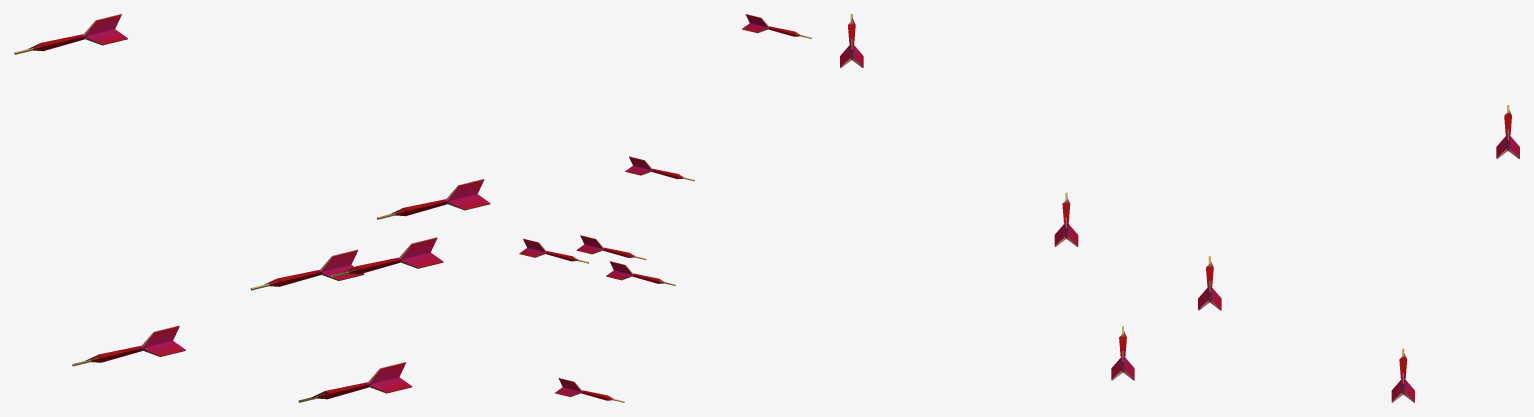
The model's file is PROP_046_Darts.fbx.
3 renders of one model, left to right at view 1: azimuth 30°, elevation 25°; view 2: azimuth 150°, elevation 25°; view 3: azimuth 270°, elevation 25°, orthographic. The views are drawn at different scales.
Parts seen in each view (by area): view 1: Pincho; view 2: Pincho; view 3: Pincho.
Part boxes in pixels (x1,y1,x2,y2): Pincho: (14,14,490,402); Pincho: (519,14,811,402); Pincho: (840,14,1519,402).
Bounding box in the file's own units: 0.3376 × 0.7054 × 1.23.
3 materials, 3 textured.
